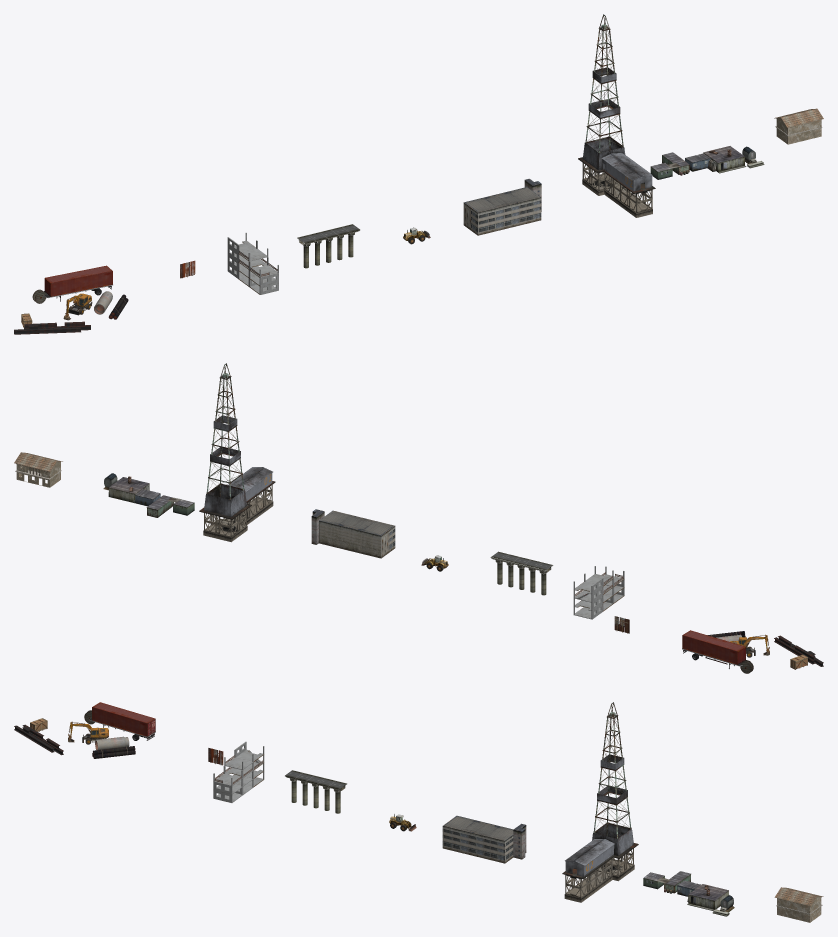
The model's file is construction props.fbx.
The picture shows the model from 3 angles, top to bottom: view 1: azimuth 30°, elevation 25°; view 2: azimuth 150°, elevation 25°; view 3: azimuth 330°, elevation 25°; orthographic projection.
Visible parts, largest first — view 1: model_0, model_0.004, model_0.005, model_0.001, SP_CSS_ShipingCont_1_SP_CSS_ShipingCont_1_0.217, Cube.003_Material.002_0, model_0.002, SP_CSS_ShipingCont_1_SP_CSS_ShipingCont_1_0.091; view 2: model_0, model_0.004, model_0.005, model_0.001, SP_CSS_ShipingCont_1_SP_CSS_ShipingCont_1_0.217, model_0.002, Cube.003_Material.002_0; view 3: model_0, model_0.004, model_0.001, model_0.005, SP_CSS_ShipingCont_1_SP_CSS_ShipingCont_1_0.217, Cube.003_Material.002_0, model_0.002, SP_CSS_ShipingCont_1_SP_CSS_ShipingCont_1_0.091, SP_CSS_ShipingCont_1_SP_CSS_ShipingCont_1_0.144.
Part boxes in pixels (<box>): model_0: <box>578,14,655,217</box>; model_0.004: <box>463,178,541,235</box>; model_0.005: <box>650,146,764,179</box>; model_0.001: <box>227,232,278,294</box>; SP_CSS_ShipingCont_1_SP_CSS_ShipingCont_1_0.217: <box>43,265,112,301</box>; Cube.003_Material.002_0: <box>774,108,823,144</box>; model_0.002: <box>297,224,359,268</box>; SP_CSS_ShipingCont_1_SP_CSS_ShipingCont_1_0.091: <box>14,321,90,334</box>; model_0: <box>199,363,275,542</box>; model_0.004: <box>311,509,395,558</box>; model_0.005: <box>103,473,194,517</box>; model_0.001: <box>573,566,624,619</box>; SP_CSS_ShipingCont_1_SP_CSS_ShipingCont_1_0.217: <box>682,630,746,668</box>; model_0.002: <box>490,551,553,595</box>; Cube.003_Material.002_0: <box>14,452,62,487</box>; model_0: <box>562,702,638,902</box>; model_0.004: <box>442,815,526,863</box>; model_0.001: <box>213,741,264,802</box>; model_0.005: <box>643,871,734,916</box>; SP_CSS_ShipingCont_1_SP_CSS_ShipingCont_1_0.217: <box>89,702,155,740</box>; Cube.003_Material.002_0: <box>774,887,823,922</box>; model_0.002: <box>285,770,347,813</box>; SP_CSS_ShipingCont_1_SP_CSS_ShipingCont_1_0.091: <box>14,724,63,755</box>; SP_CSS_ShipingCont_1_SP_CSS_ShipingCont_1_0.144: <box>68,721,108,744</box>.
Size of the model in its own units: 9676 by 1958 by 1254.
3 materials, 3 textured.
